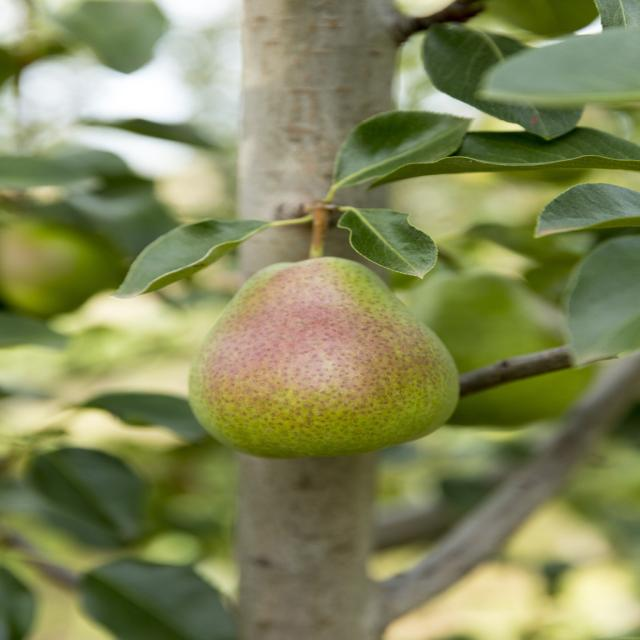pear: (187, 205, 463, 460)
